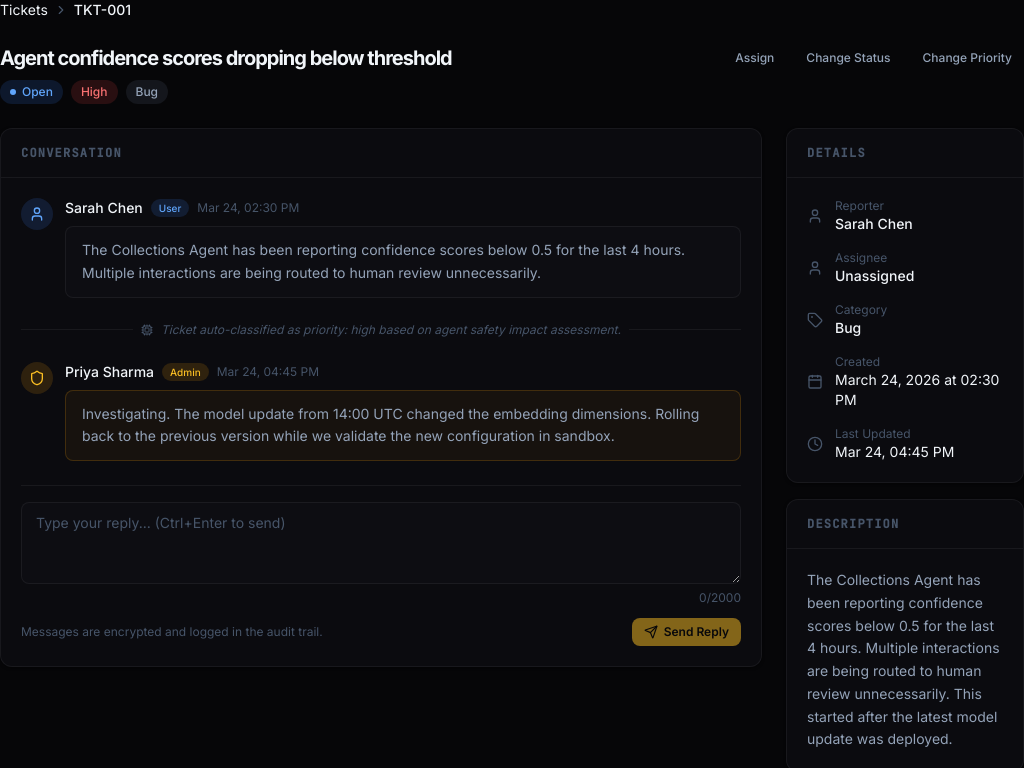
TicketDetail › opens change priority modal
The width and height of the screenshot is (1024, 768).
Click the button "Change Priority": x=967, y=58 [911,44,1023,72]
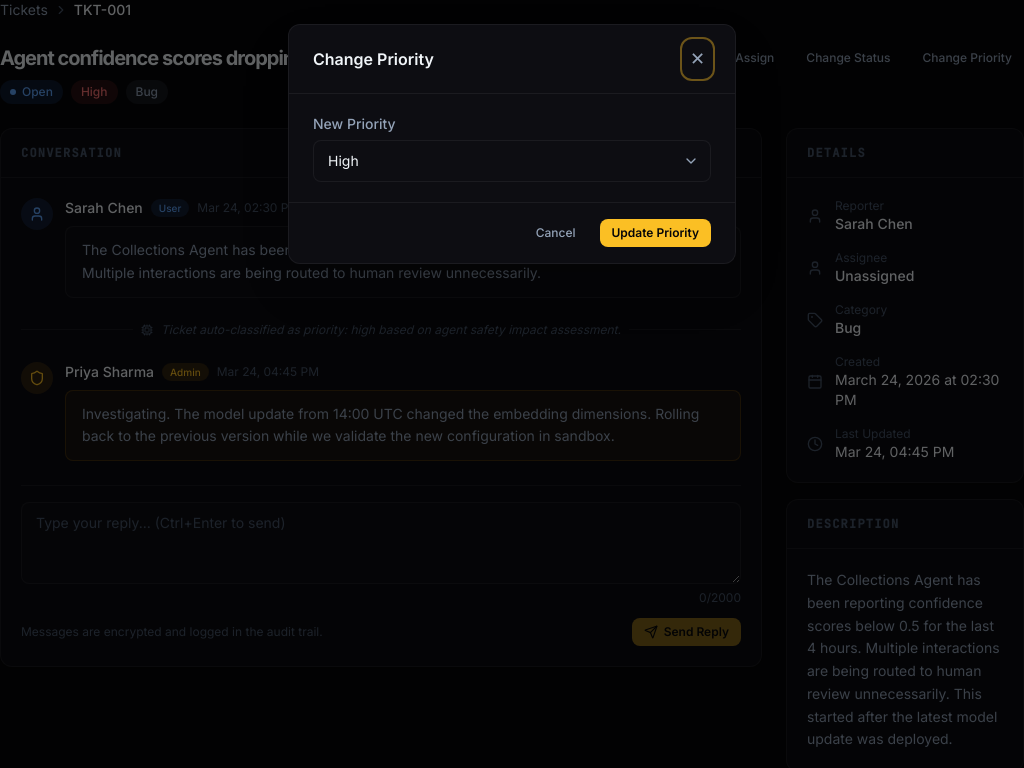
Now the button "Update Priority" is shown, box [600,219,711,247]
